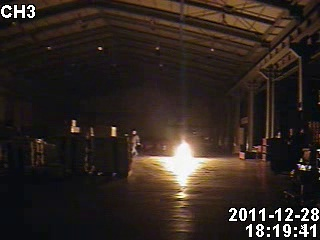fire: (171, 140, 194, 174)
